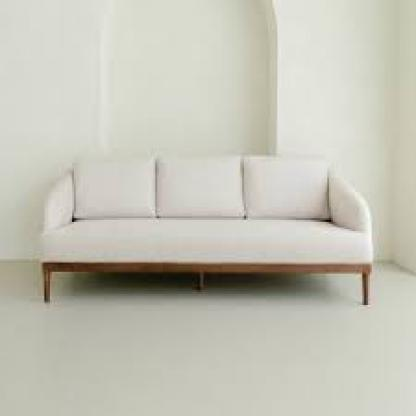sofa: (33, 159, 383, 312)
